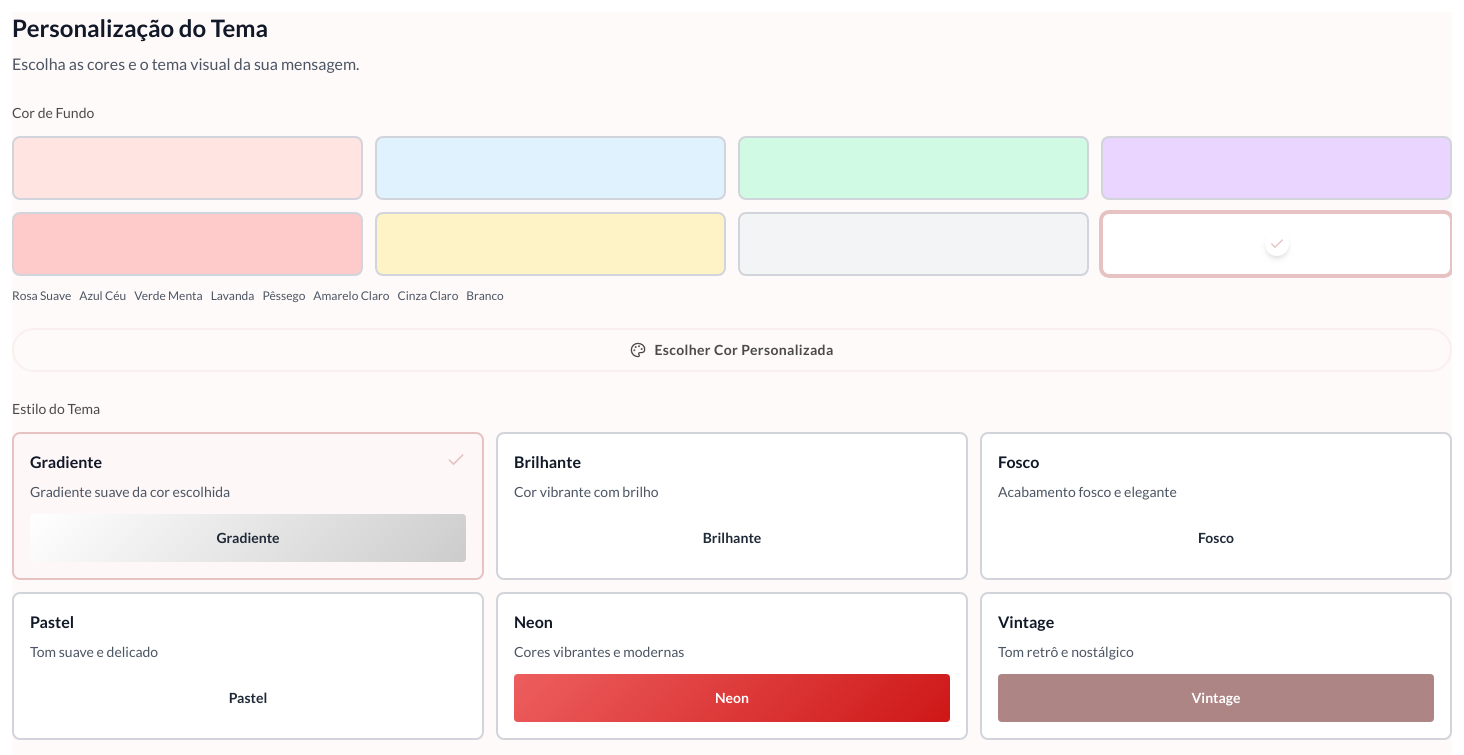
Test: Step5ThemeCustomization › Custom Color Picker › updates button text when picker is shown
Click the button "Escolher Cor Personalizada". click: (732, 350)
box: x1=12 y1=328 x2=1452 y2=372
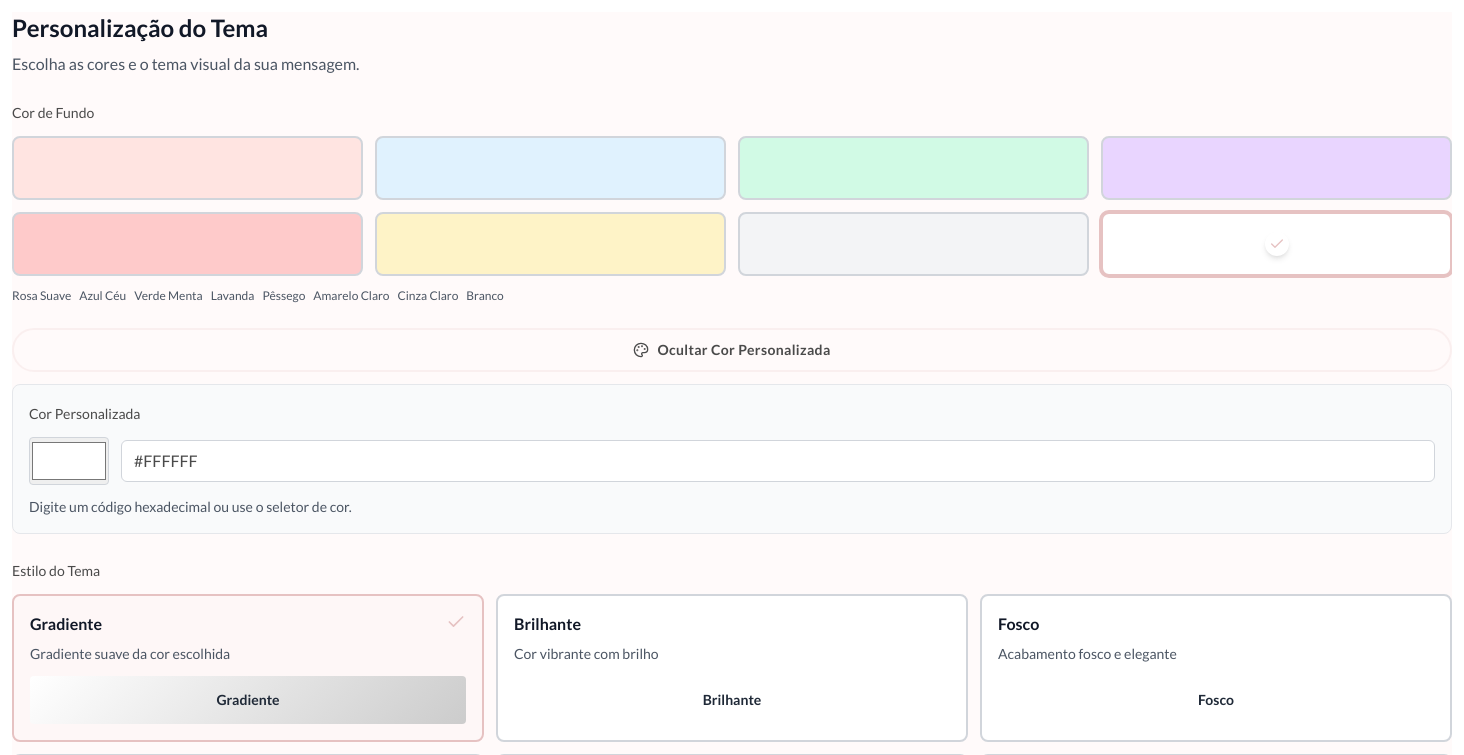
Now the button "Ocultar Cor Personalizada" is shown, box x1=12 y1=328 x2=1452 y2=372
